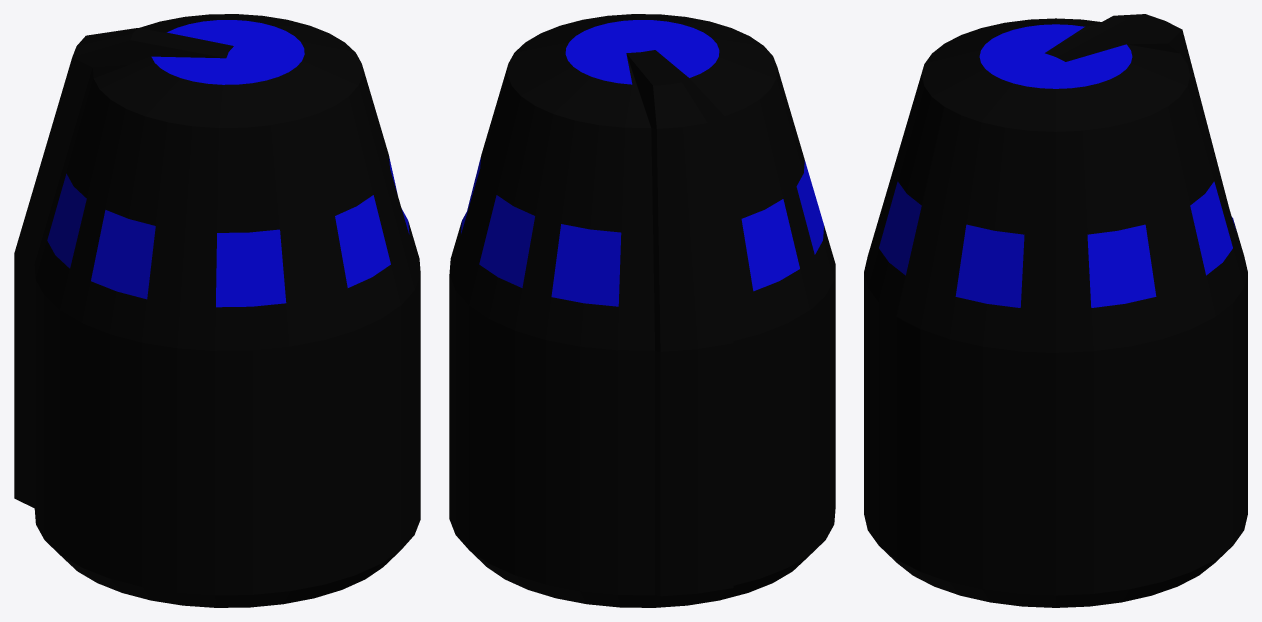
Rendered from EnergyCylinder.fbx.
3 views of the same model, side by side, from view 1: azimuth 30°, elevation 25°; view 2: azimuth 150°, elevation 25°; view 3: azimuth 270°, elevation 25° (orthographic).
Visible parts, largest first — view 1: Cylinder; view 2: Cylinder; view 3: Cylinder.
Boxes of the visible parts, x1,y1,x2,y2 form: Cylinder: (14,14,420,607); Cylinder: (449,14,835,607); Cylinder: (864,14,1247,607).
Size of the model in its own units: 13.5 by 18.87 by 13.5.
